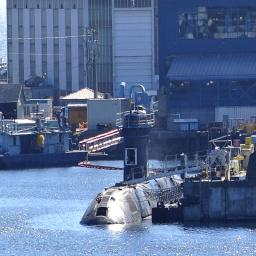submarine: (80, 110, 184, 227)
